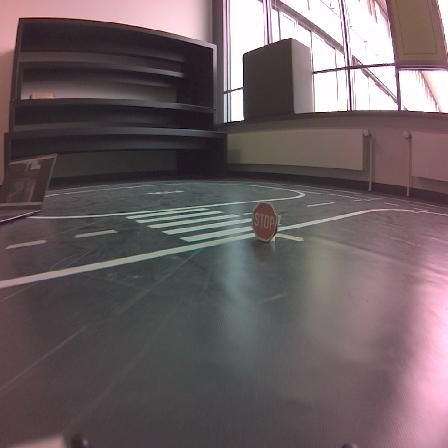STOP: (252, 203, 278, 241)
